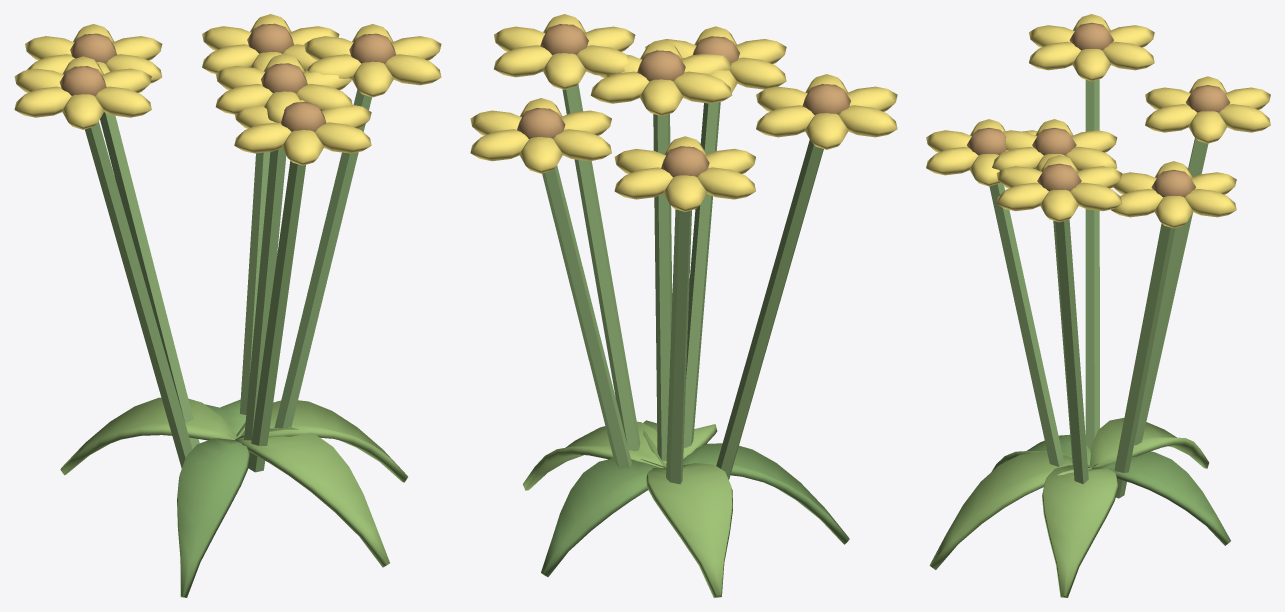
File: Flowers_Yellow.gltf
3 renders of one model, left to right at view 1: azimuth 30°, elevation 25°; view 2: azimuth 150°, elevation 25°; view 3: azimuth 270°, elevation 25°, orthographic. The views are drawn at different scales.
Parts seen in each view (by area): view 1: Flowers_Yellow; view 2: Flowers_Yellow; view 3: Flowers_Yellow.
Part boxes in pixels (x1,y1,x2,y2): Flowers_Yellow: [14, 14, 441, 597]; Flowers_Yellow: [470, 14, 897, 597]; Flowers_Yellow: [926, 14, 1270, 597].
Size of the model in its own units: 0.7744 by 0.8985 by 0.6166.
